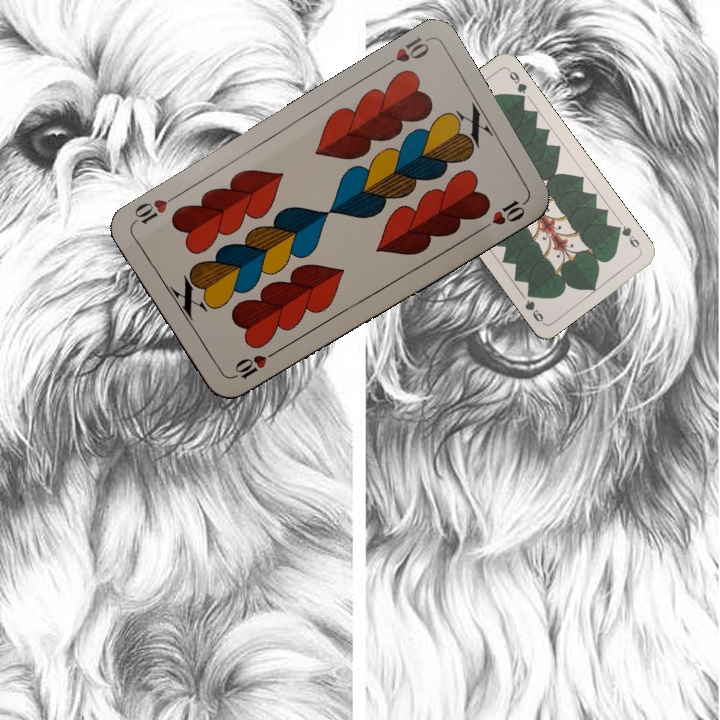G9: (611, 221, 644, 253)
H10: (377, 33, 432, 72), (226, 346, 280, 382)
